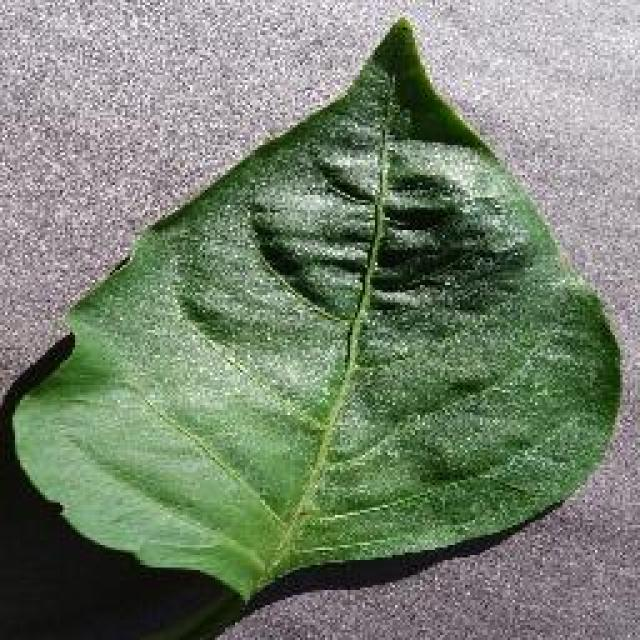Leaf: (17, 8, 616, 619)
